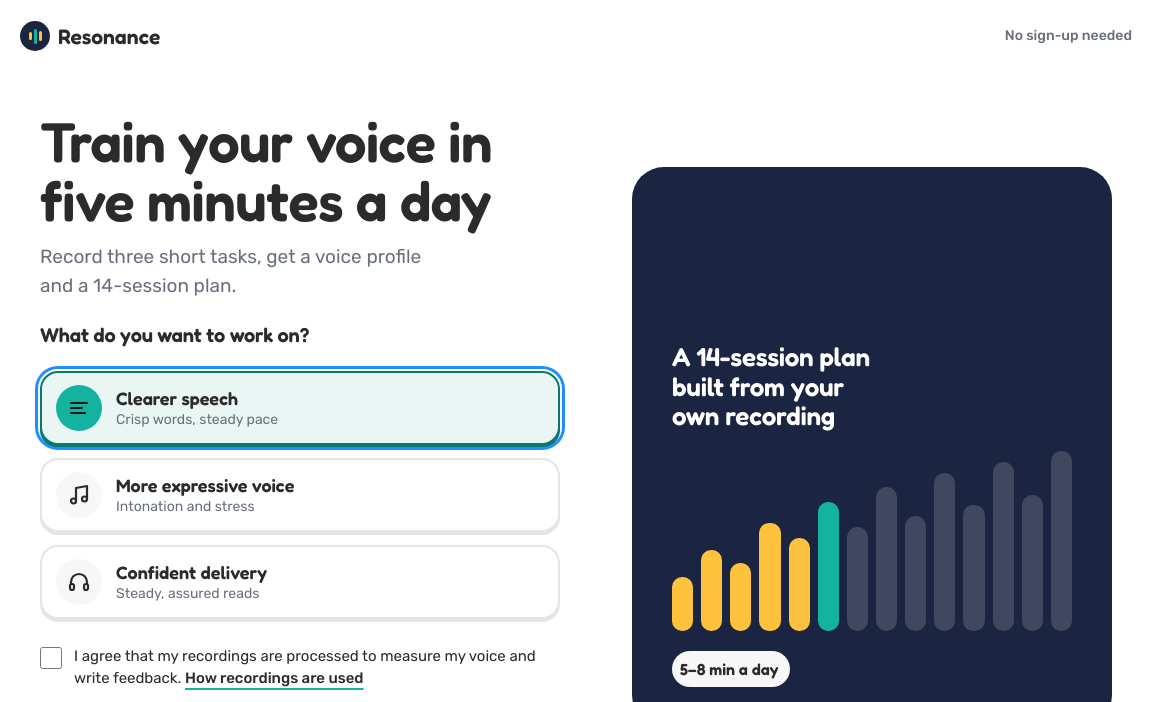
Scenario: keyboard goal selection updates focus, selection and the submitted onboarding goal
Press Arrowdown
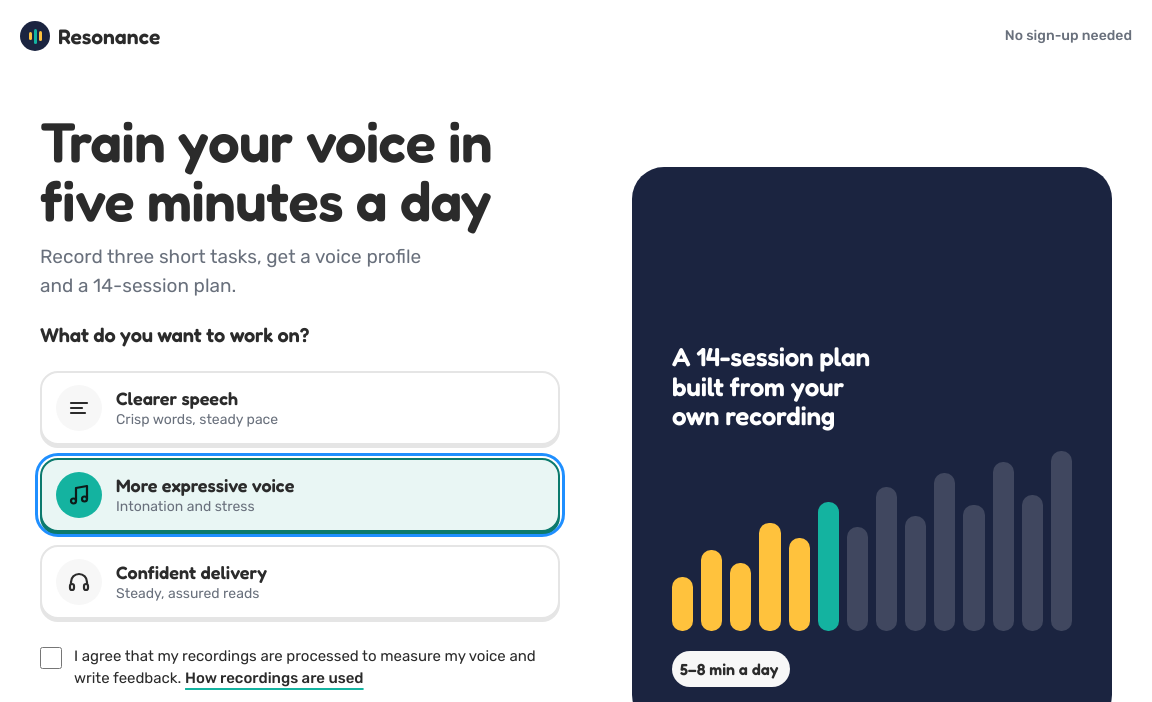
expect the radio button labelled "More expressive voice Intonation and stress" is checked: met, box [40,458,560,532]
Press End
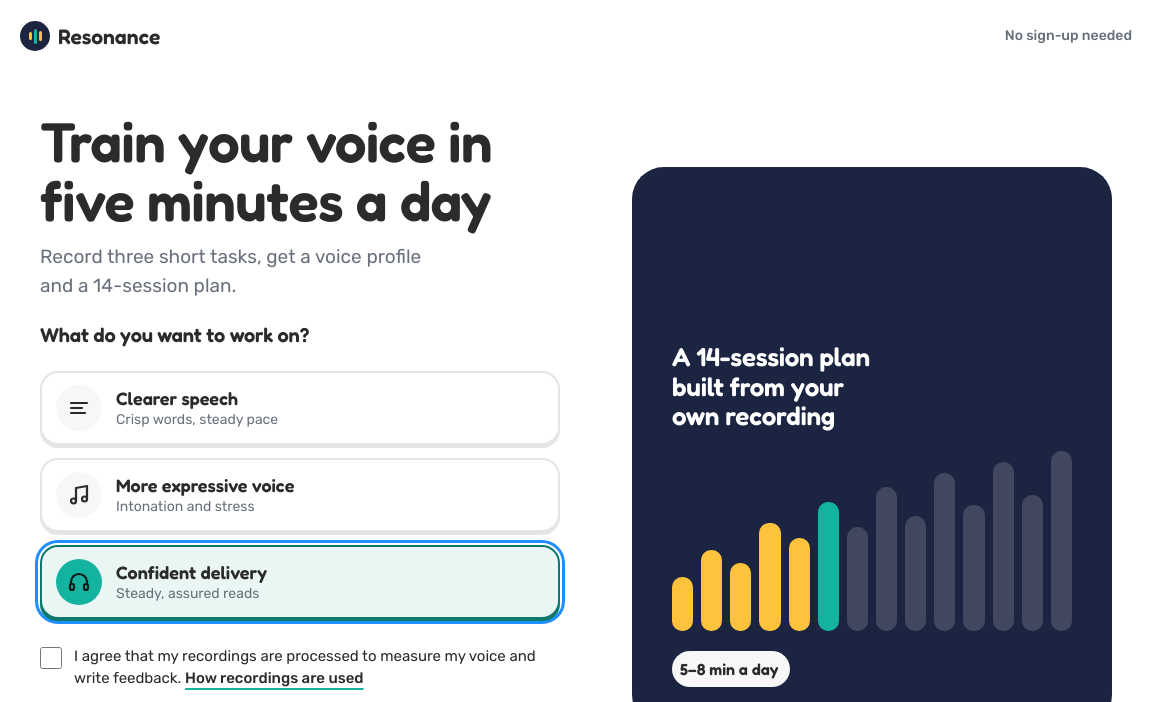
Click the checkbox at {"x": 51, "y": 658}, box [40,648,62,670]
(page scrolled)
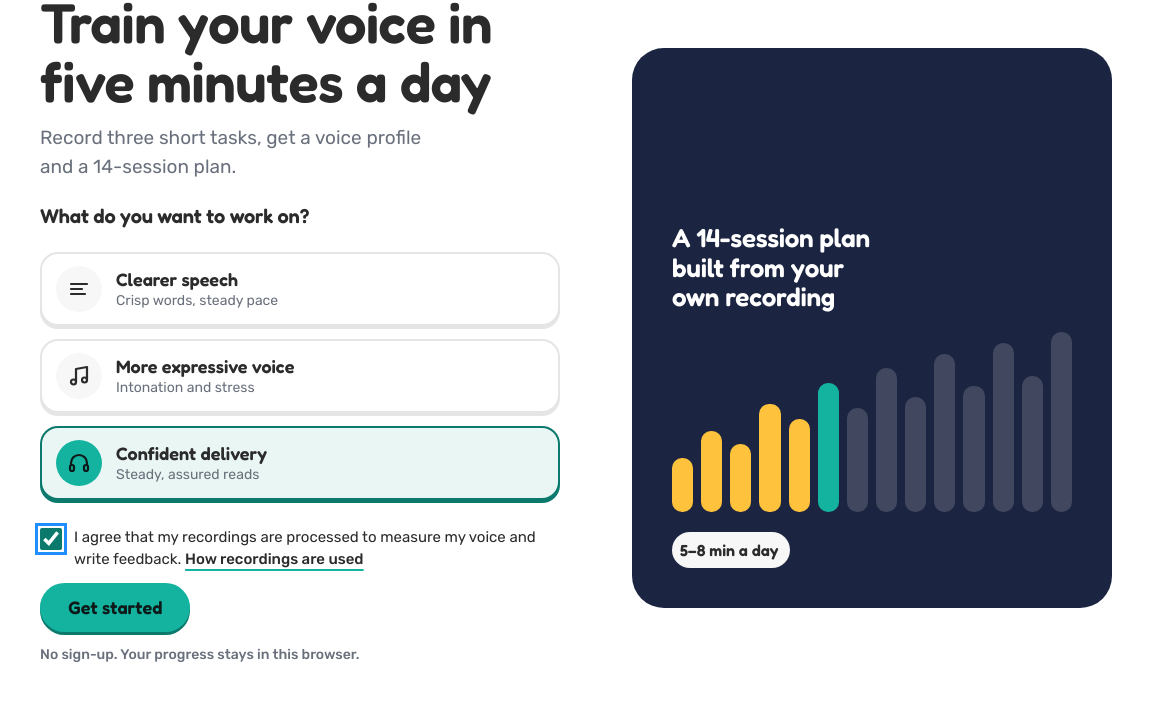
Click the button "Get started" at {"x": 115, "y": 608}, box [40,583,190,632]
(page scrolled)
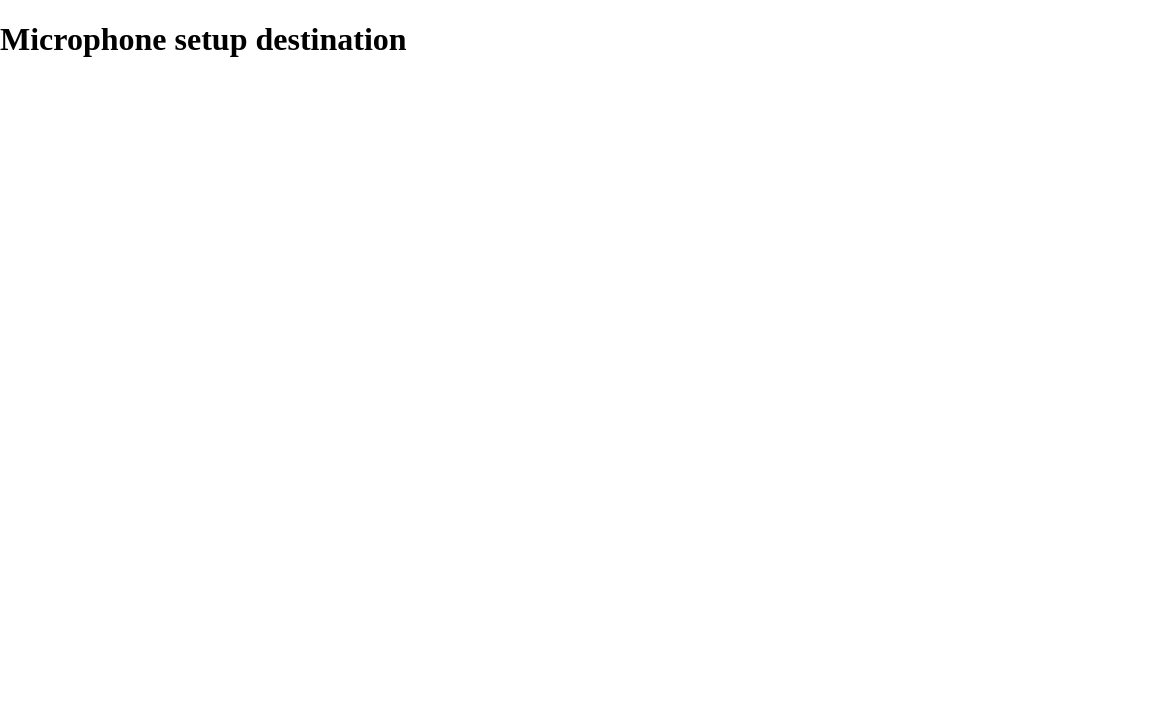
expect the heading "Microphone setup destination" is shown: met, box [0,21,407,57]
